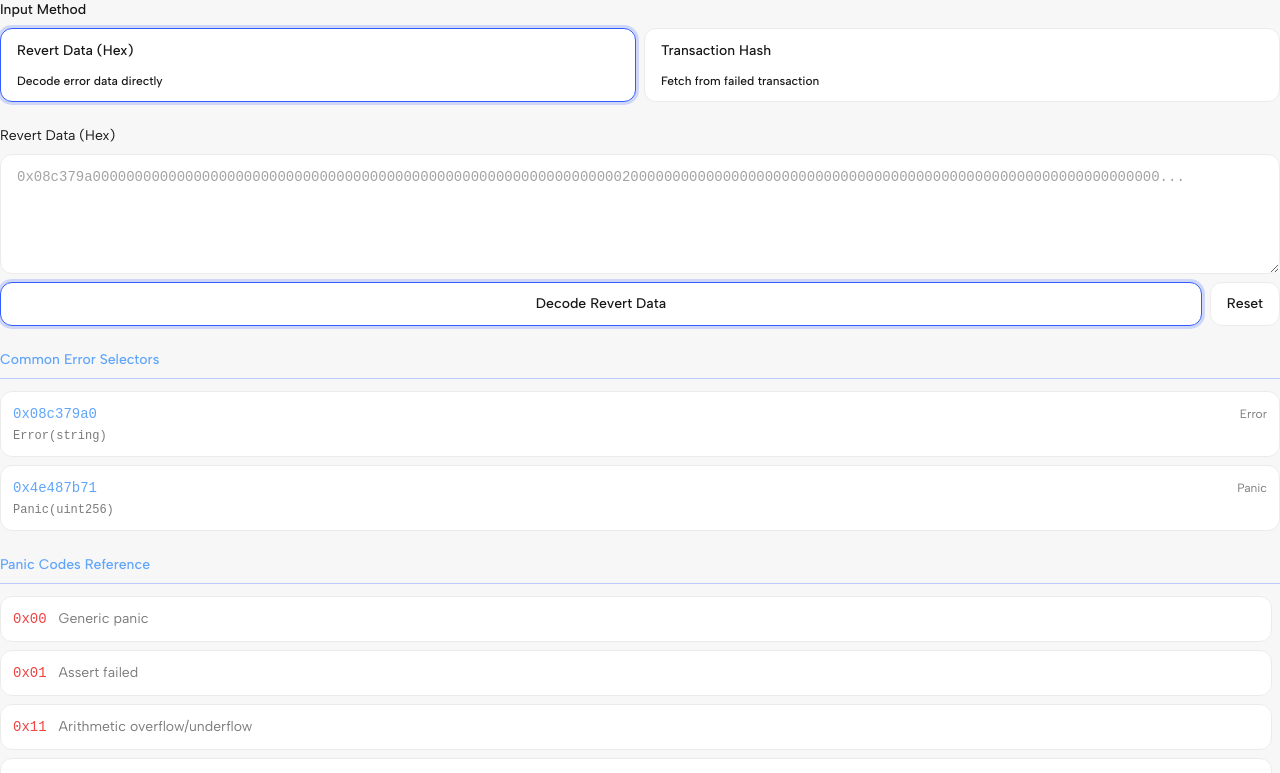
Test case: RevertReasonDecoderTool › decodes Panic error
Replace the text in the text box with placeholder "0x08c379a0" with "0x4e487b710000000000000000000000000000000000000000000000000000000000000011" at (640,214), box [0,154,1279,274]
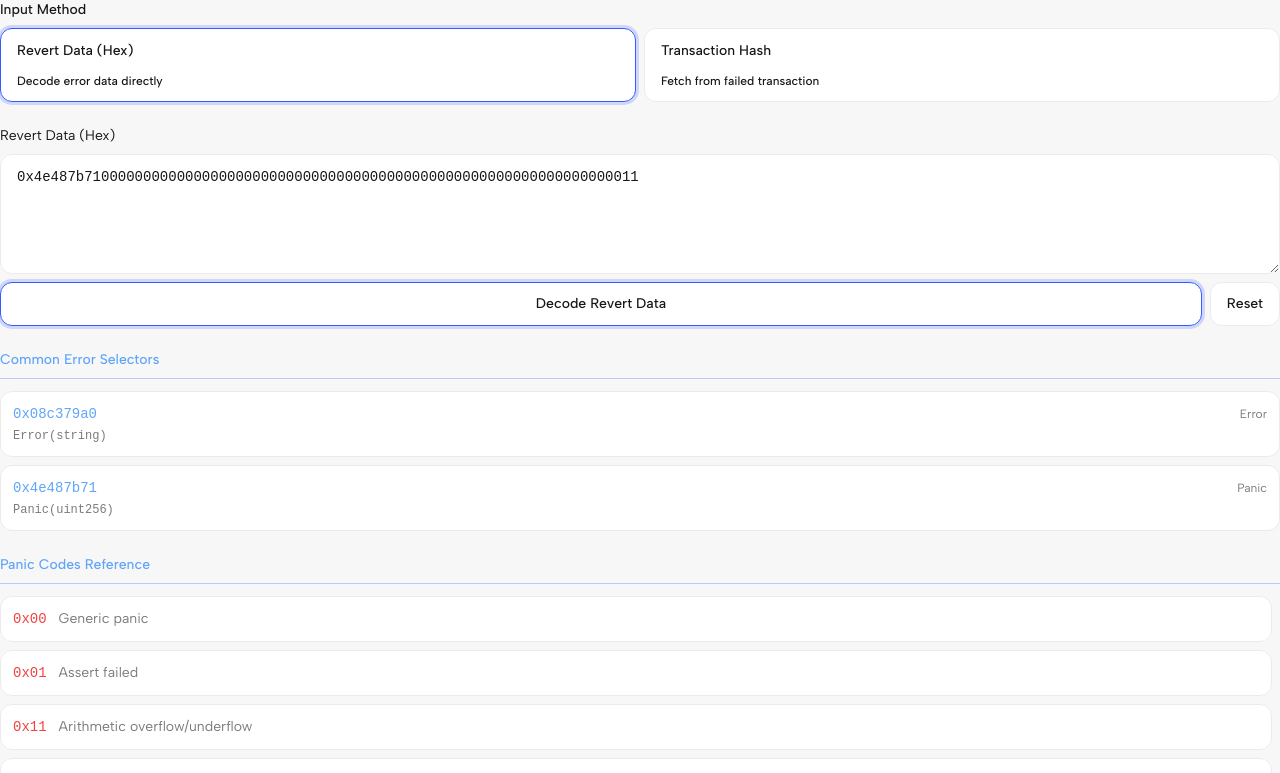
Click the button "Decode Revert Data" at (601,304), box [0,282,1202,326]
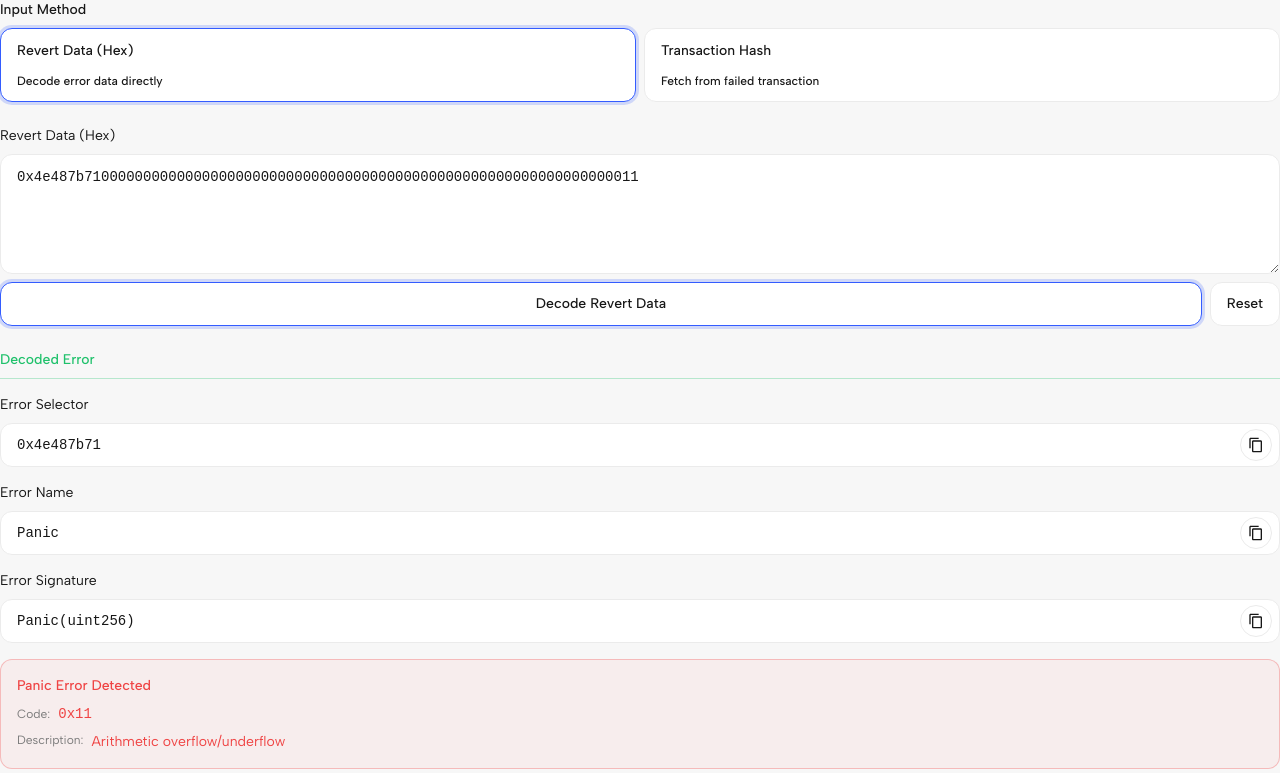
Expected: the text "Panic Error Detected" is shown, [17,677,151,694]
Expected: the text "0x11" is shown, [58,704,92,724]
